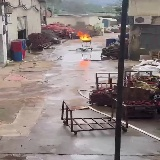fire: (77, 30, 91, 40)
